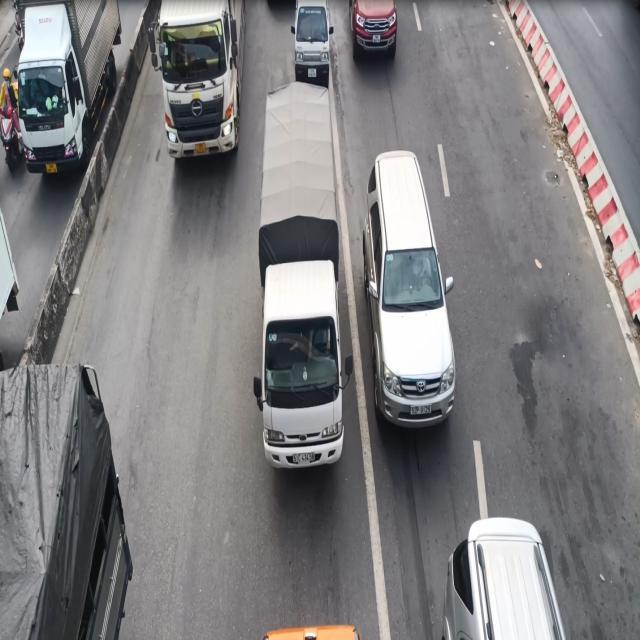car: (361, 149, 456, 429), (440, 516, 567, 639), (289, 0, 334, 84), (350, 0, 397, 58)
truck: (248, 85, 366, 483), (147, 0, 245, 160)
